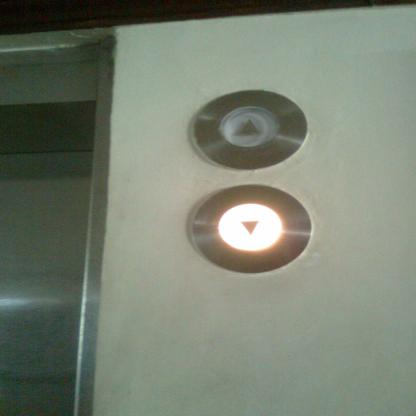down: (184, 184, 314, 274)
up: (188, 89, 308, 171)
